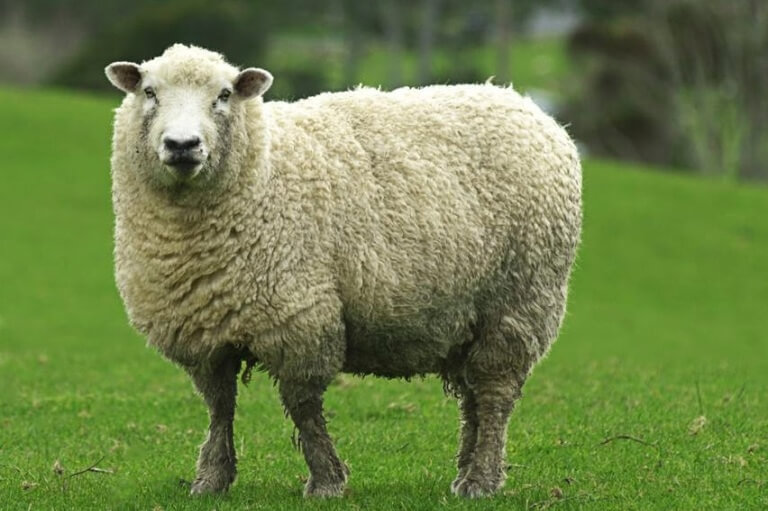sheep: (105, 41, 600, 496)
